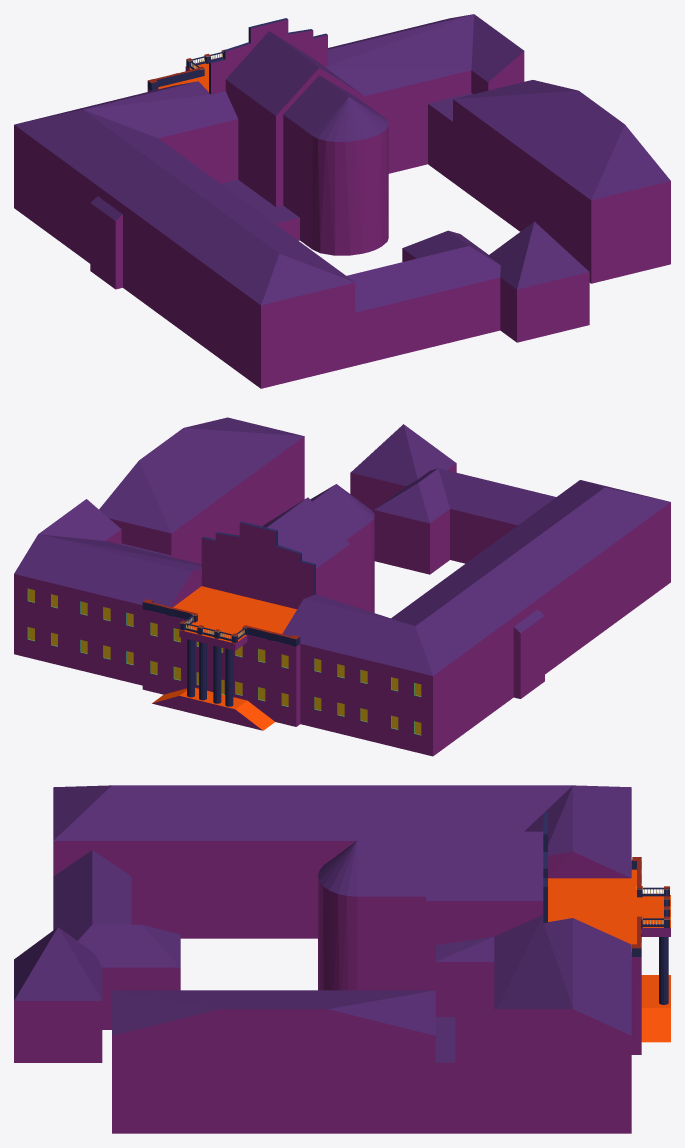
Rendered from Muzeum MalczewskiegoV3.fbx.
3 views of the same model, one above another, from view 1: azimuth 30°, elevation 25°; view 2: azimuth 150°, elevation 25°; view 3: azimuth 270°, elevation 25° (orthographic). The views are drawn at different scales.
Visible parts, largest first — view 1: Cylinder.003; view 2: Cylinder.003; view 3: Cylinder.003.
Part boxes in pixels (<box>): Cylinder.003: <box>14,14,670,388</box>; Cylinder.003: <box>14,417,670,756</box>; Cylinder.003: <box>14,785,670,1133</box>.
Bounding box in the file's own units: 1779 × 609 × 1954.
